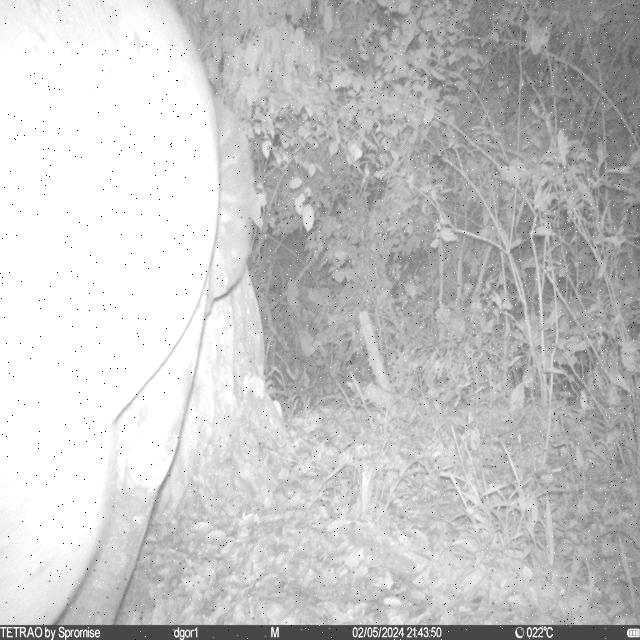ear: (208, 103, 255, 315)
elephant: (0, 0, 256, 615)
